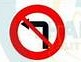No_turn_left: (8, 4, 67, 61)
